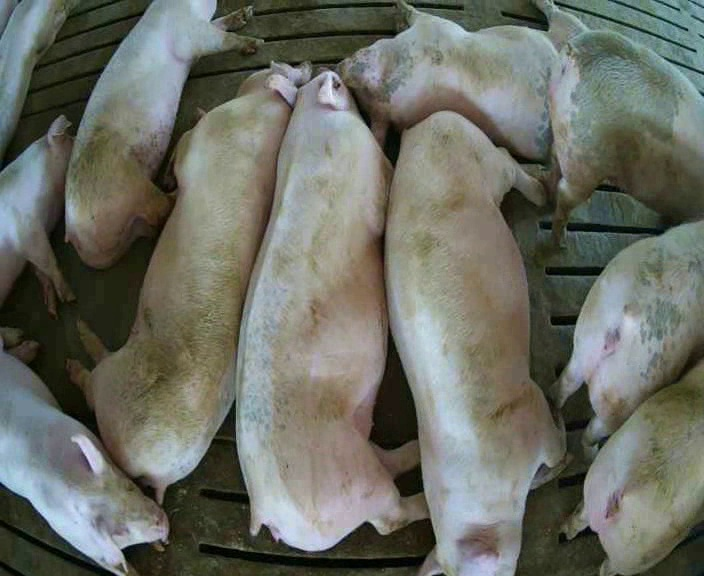pig: (66, 63, 309, 501), (237, 67, 426, 550), (385, 111, 573, 574), (66, 2, 259, 268), (339, 1, 588, 161), (554, 220, 703, 463), (550, 31, 703, 243), (561, 359, 703, 574), (0, 115, 73, 312), (0, 2, 75, 159)
